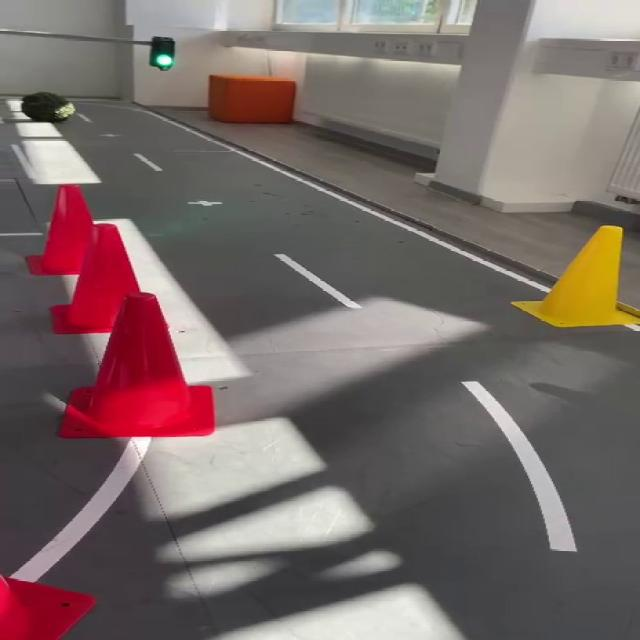Cone-red: (62, 293, 214, 437), (51, 223, 139, 334), (0, 574, 95, 639), (29, 185, 92, 275), (138, 366, 208, 401), (131, 292, 167, 331), (127, 395, 141, 402)
Cones-yellow: (510, 226, 639, 327)
